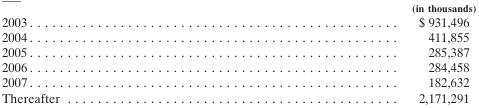table: (0, 1, 475, 104)
table column: (234, 1, 475, 104), (0, 1, 234, 104)
table column header: (0, 1, 475, 13)
table row: (0, 28, 475, 44), (0, 13, 475, 28), (0, 44, 475, 59), (0, 59, 475, 74), (0, 74, 475, 89), (0, 89, 475, 104), (0, 1, 475, 13)
